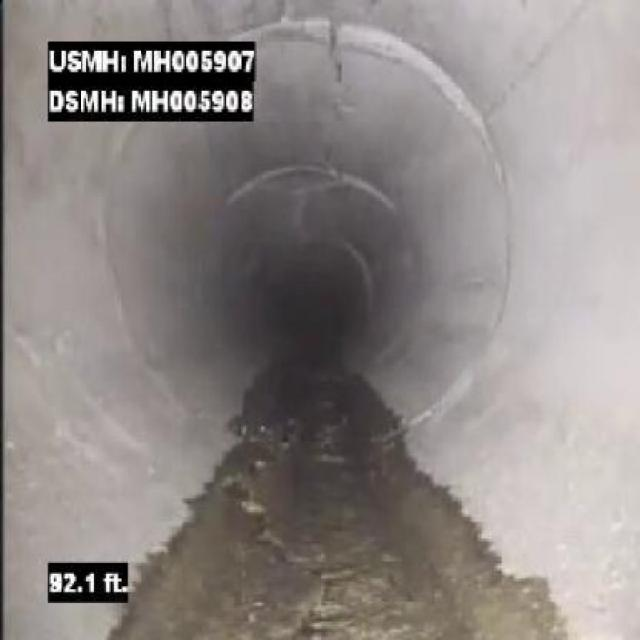Crack: (218, 446, 291, 580), (304, 542, 358, 638)
Joint offset: (281, 10, 517, 124)
